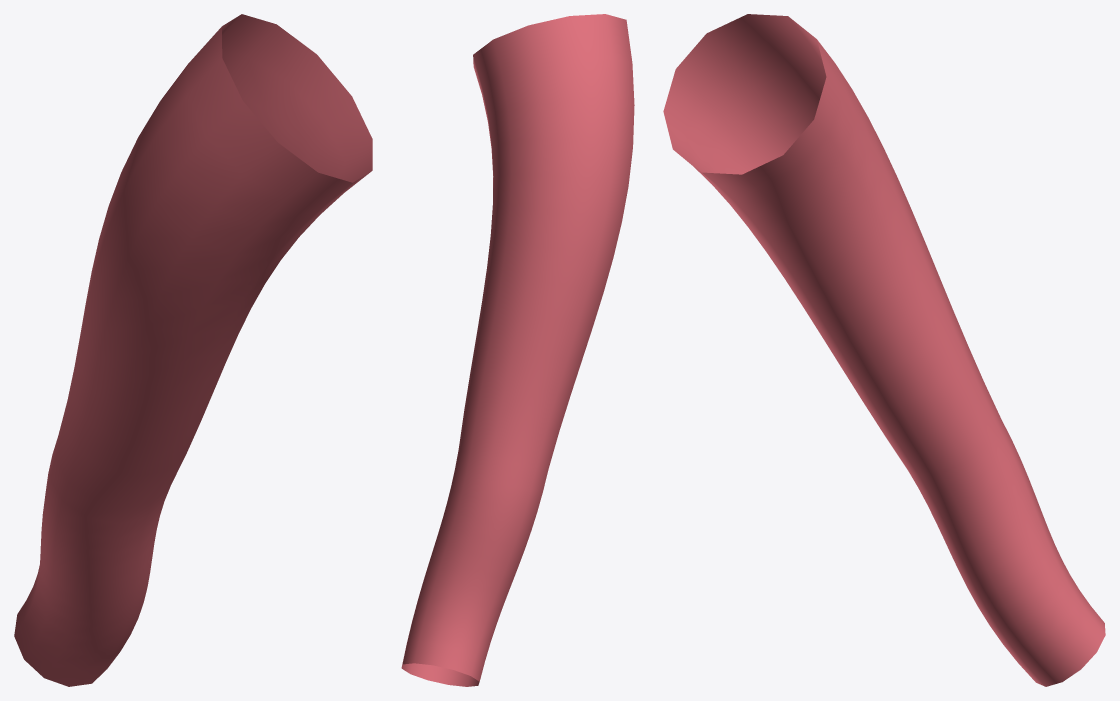
The picture shows the model from 3 angles, left to right: view 1: azimuth 30°, elevation 25°; view 2: azimuth 150°, elevation 25°; view 3: azimuth 270°, elevation 25°; orthographic projection. The views are drawn at different scales.
Parts seen in each view (by area): view 1: ZA_a77b6202585fae98; view 2: ZA_a77b6202585fae98; view 3: ZA_a77b6202585fae98.
Boxes of the visible parts, x1,y1,x2,y2 form: ZA_a77b6202585fae98: (14, 14, 372, 686); ZA_a77b6202585fae98: (401, 14, 634, 686); ZA_a77b6202585fae98: (663, 14, 1105, 686).
Size of the model in its own units: 0.0138 by 0.0479 by 0.0291.
